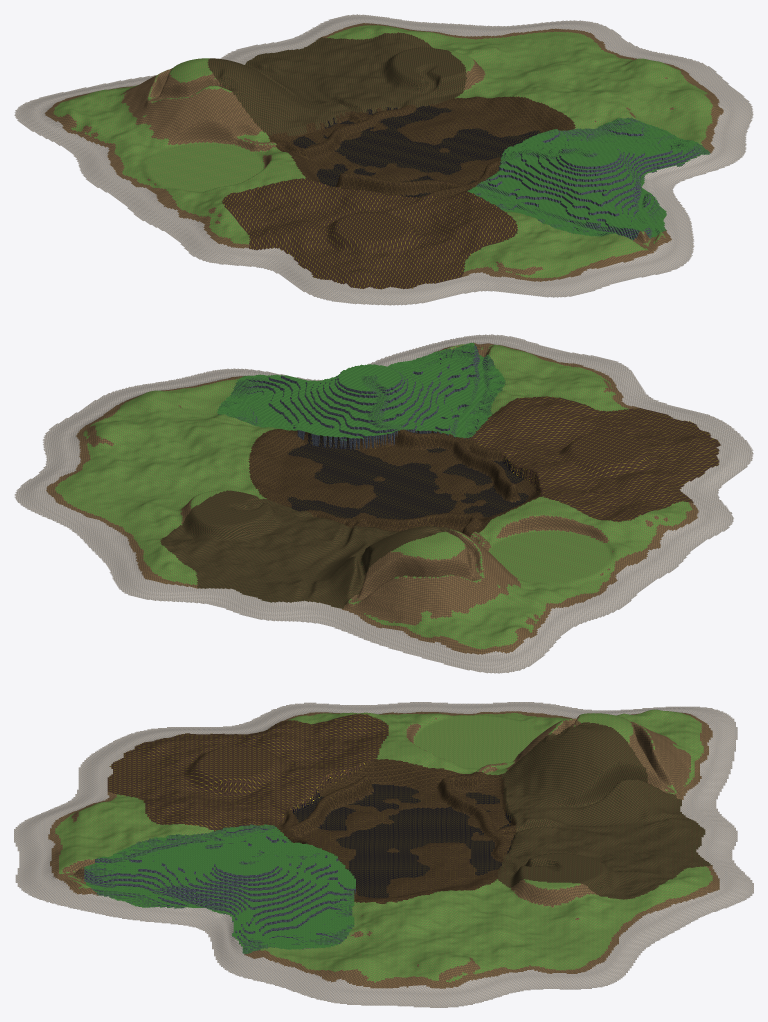
File: Isla_terreno.gltf
The picture shows the model from 3 angles, top to bottom: view 1: azimuth 30°, elevation 25°; view 2: azimuth 150°, elevation 25°; view 3: azimuth 270°, elevation 25°; orthographic projection. The views are drawn at different scales.
Visible parts, largest first — view 1: Isla_terreno-col; view 2: Isla_terreno-col; view 3: Isla_terreno-col.
Boxes of the visible parts, x1=… form: Isla_terreno-col: x1=14, y1=14, x2=753, y2=305; Isla_terreno-col: x1=14, y1=334, x2=753, y2=673; Isla_terreno-col: x1=14, y1=702, x2=753, y2=1007.
Size of the model in its own units: 603 by 53.48 by 617.
9 materials, 9 textured.
